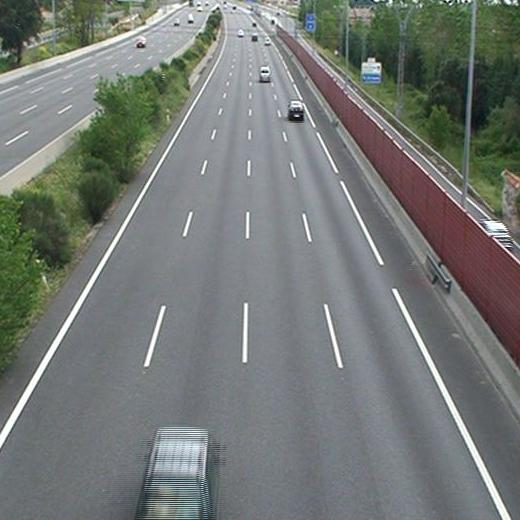car: (133, 429, 216, 520), (288, 101, 304, 117), (258, 66, 271, 81)
